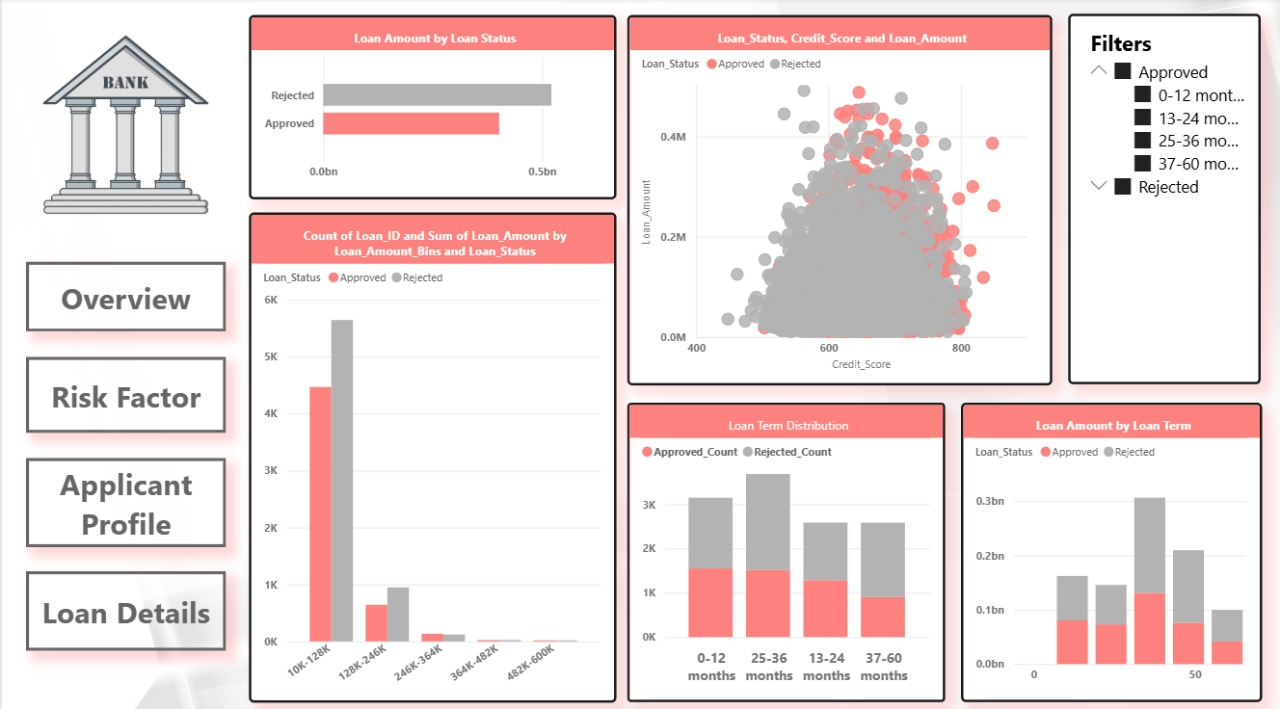

This screenshot's page, from the dashboard's own definition file:
{"tool":"powerbi","page":{"name":"Page 1","canvas":[1280,720],"ordinal":0},"visuals":[{"type":"columnChart","title":"Loan Term Distribution","fields":{"Category":["clean_data.Loan_Term_Range"],"Y":["clean_data.Approved_Count","clean_data.Rejected_Count"]},"box":[625.8,405.3,318.6,300.1],"z":0},{"type":"slicer","title":"Filter","fields":{"Values":["clean_data.Loan_Status","clean_data.Loan_Term_Range"]},"box":[1067.7,15.7,193,371.6],"z":1000},{"type":"scatterChart","fields":{"Series":["clean_data.Loan_Status"],"Y":["clean_data.Loan_Amount"],"X":["clean_data.Credit_Score"]},"box":[626.1,16.9,425.9,371.6],"z":2000},{"type":"clusteredBarChart","title":"Loan Amount by Loan Status","fields":{"Category":["clean_data.Loan_Status"],"Y":["Sum(clean_data.Loan_Amount)"]},"box":[247.3,16.9,368,184.6],"z":3000},{"type":"columnChart","title":" Loan Amount by Loan Term ","fields":{"Category":["clean_data.Loan_Term"],"Y":["Sum(clean_data.Loan_Amount)"],"Series":["clean_data.Loan_Status"]},"box":[960,405.3,301.5,300.1],"z":4000},{"type":"clusteredColumnChart","fields":{"Y":["Count(clean_data.Loan_ID)"],"Category":["clean_data.Loan_Amount_Bins"],"Series":["clean_data.Loan_Status"]},"box":[247.3,214.7,368,491],"z":5000},{"type":"actionButton","box":[24.1,264.2,200.3,70],"z":6000},{"type":"actionButton","box":[24.1,359.5,200.3,76],"z":7000},{"type":"actionButton","box":[24.1,460.9,200.3,89.3],"z":8000},{"type":"actionButton","box":[24.1,574.3,200.3,79.6],"z":9000},{"type":"image","box":[1.2,0,246.1,253.4],"z":10000}]}

Visuals, with their boxes in screenshot pixels (x1, y1, x2, y2), scaled from the page's 1280x720 canvas onto the 1280x709 screenshot:
"Loan Term Distribution" columnChart: box=[626, 399, 944, 695]
"Filter" slicer: box=[1068, 15, 1261, 381]
scatterChart - clean_data.Loan_Status x clean_data.Loan_Amount: box=[626, 17, 1052, 383]
"Loan Amount by Loan Status" clusteredBarChart: box=[247, 17, 615, 198]
" Loan Amount by Loan Term " columnChart: box=[960, 399, 1262, 695]
clusteredColumnChart - Count(clean_data.Loan_ID) x clean_data.Loan_Amount_Bins: box=[247, 211, 615, 695]
actionButton: box=[24, 260, 224, 329]
actionButton: box=[24, 354, 224, 429]
actionButton: box=[24, 454, 224, 542]
actionButton: box=[24, 566, 224, 644]
image: box=[1, 0, 247, 250]
